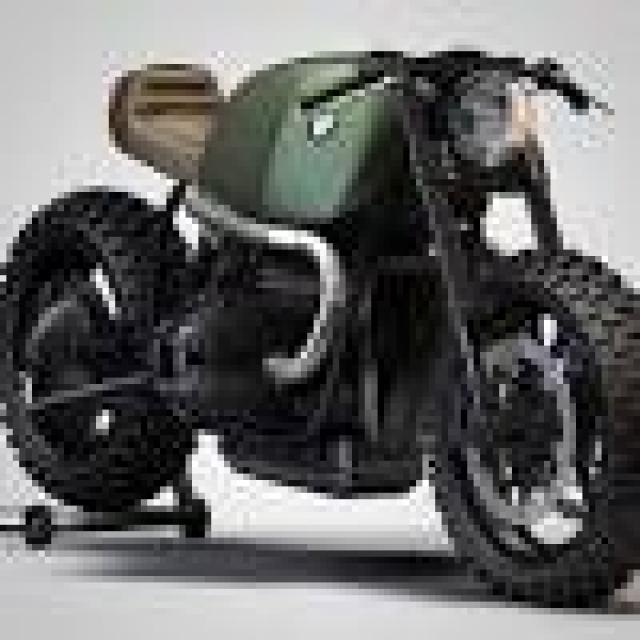Bike: (0, 44, 640, 602)
